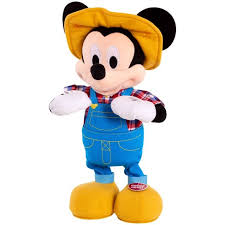mickey: (49, 1, 178, 225)
